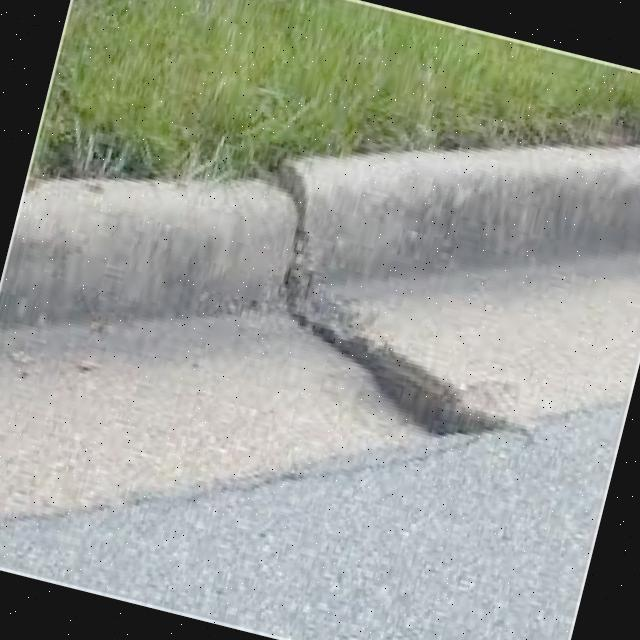curb: (253, 67, 640, 467), (1, 134, 302, 413)
